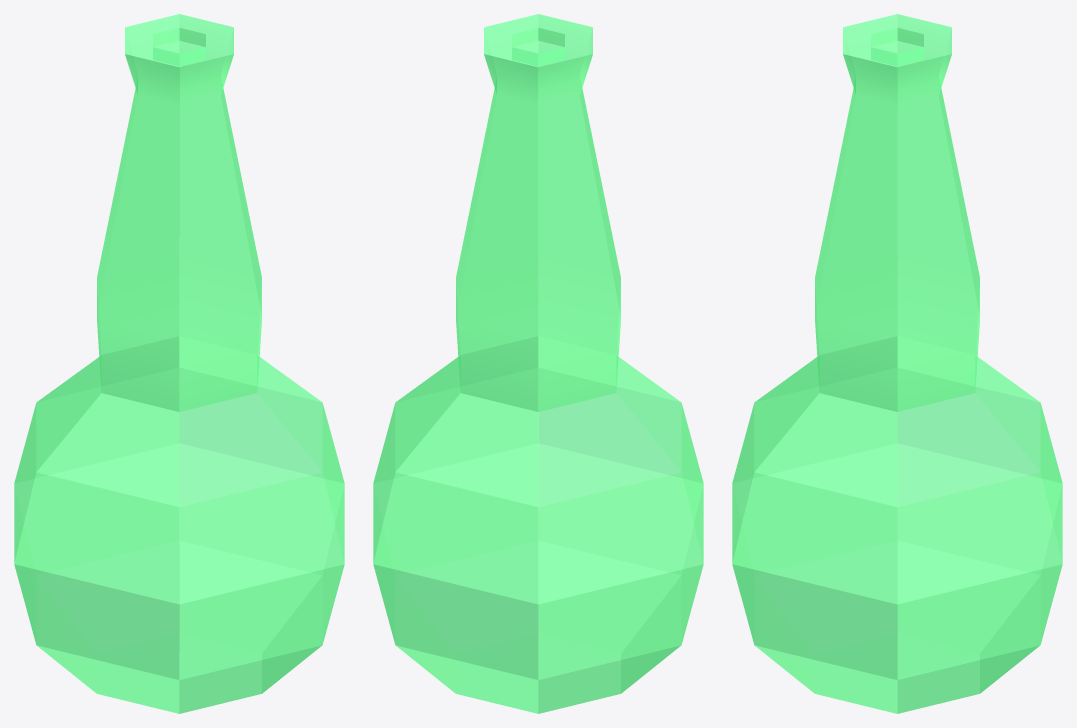
The model's file is SM_PotionVerte.fbx.
3 views of the same model, side by side, from view 1: azimuth 30°, elevation 25°; view 2: azimuth 150°, elevation 25°; view 3: azimuth 270°, elevation 25° (orthographic).
Visible parts, largest first — view 1: Potion1; view 2: Potion1; view 3: Potion1.
Boxes of the visible parts, x1,y1,x2,y2 form: Potion1: (14,14,344,713); Potion1: (373,14,703,713); Potion1: (732,14,1062,713).
Size of the model in its own units: 0.9815 by 1.8 by 0.85.
